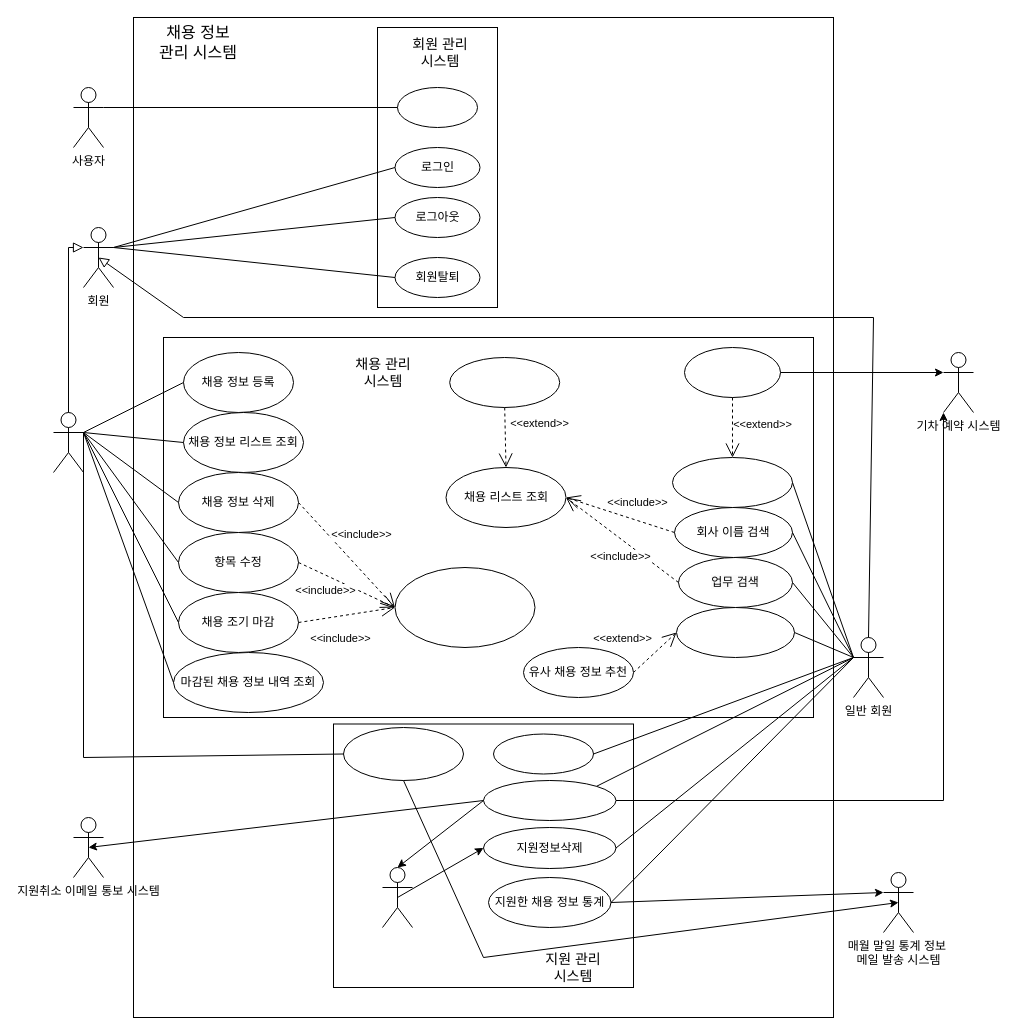
The diagram is 1017 pixels wide and 1035 high, and some of its shapes have lost their labels. The shapes that lost their labels are listed below. From the top down, each one's centre as x and y in pixels, then its label:
(437,107): 회원가입
(504,382): 마감일 기준 정렬
(732,372): 기차 예약
(68,442): 회사 회원
(732,482): 지원
(464,607): 특정 채용 정보 상세 조회
(735,632): 상세 정보 조회
(403,753): 등록한 채용 정보 통계
(543,753): 지원정보조회
(549,800): 지원 취소
(397,897): 지원 정보 삭제 시스템
